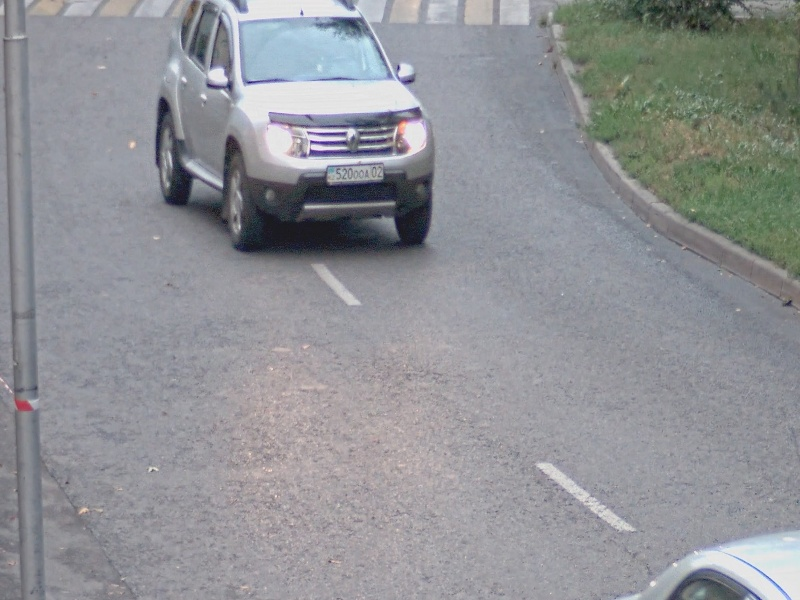plate: (325, 162, 385, 186)
